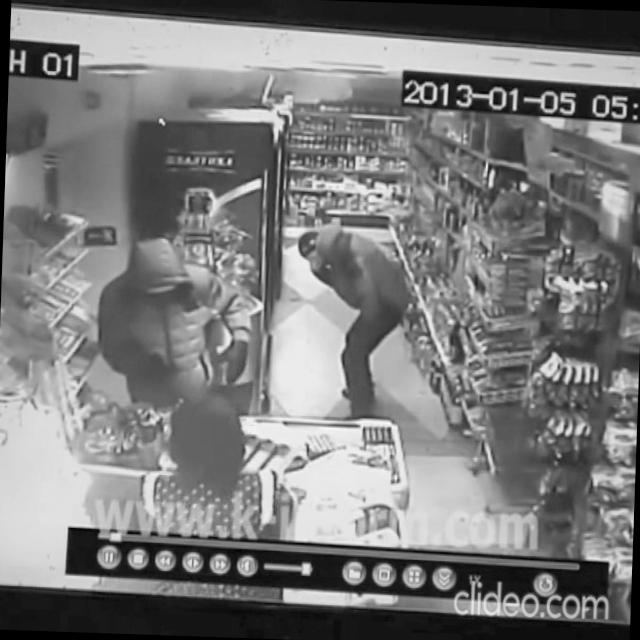gun: (146, 344, 178, 381)
person: (293, 222, 412, 420)
person with a gun: (96, 236, 254, 412)
